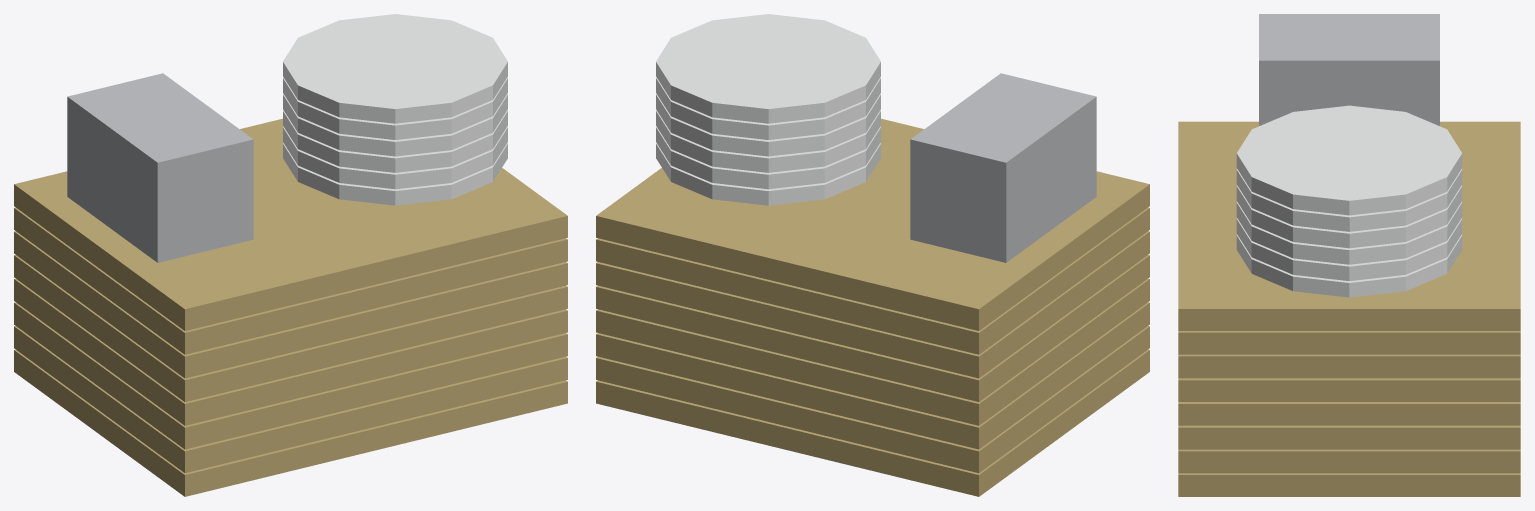
File: tray_stack.glb
3 renders of one model, left to right at view 1: azimuth 30°, elevation 25°; view 2: azimuth 150°, elevation 25°; view 3: azimuth 270°, elevation 25°, orthographic.
Parts seen in each view (by area): view 1: Tray Stack; view 2: Tray Stack; view 3: Tray Stack.
Part boxes in pixels (x1=…): Tray Stack: x1=14, y1=14, x2=567, y2=496; Tray Stack: x1=596, y1=14, x2=1149, y2=496; Tray Stack: x1=1178, y1=14, x2=1520, y2=496.
Size of the model in its own units: 0.226 by 0.1655 by 0.17.
